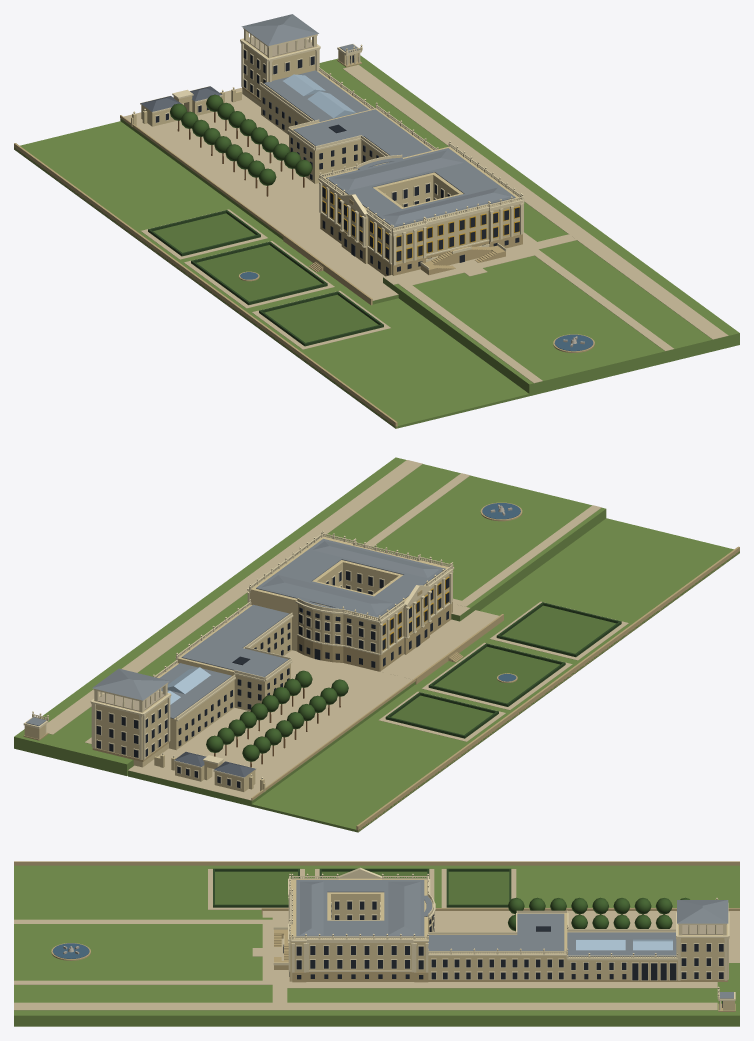
The model's file is chatsworth.glb.
3 renders of one model, top to bottom at view 1: azimuth 30°, elevation 25°; view 2: azimuth 150°, elevation 25°; view 3: azimuth 270°, elevation 25°, orthographic. The views are drawn at different scales.
Size of the model in its own units: 15.2 by 3.32 by 29.2.
